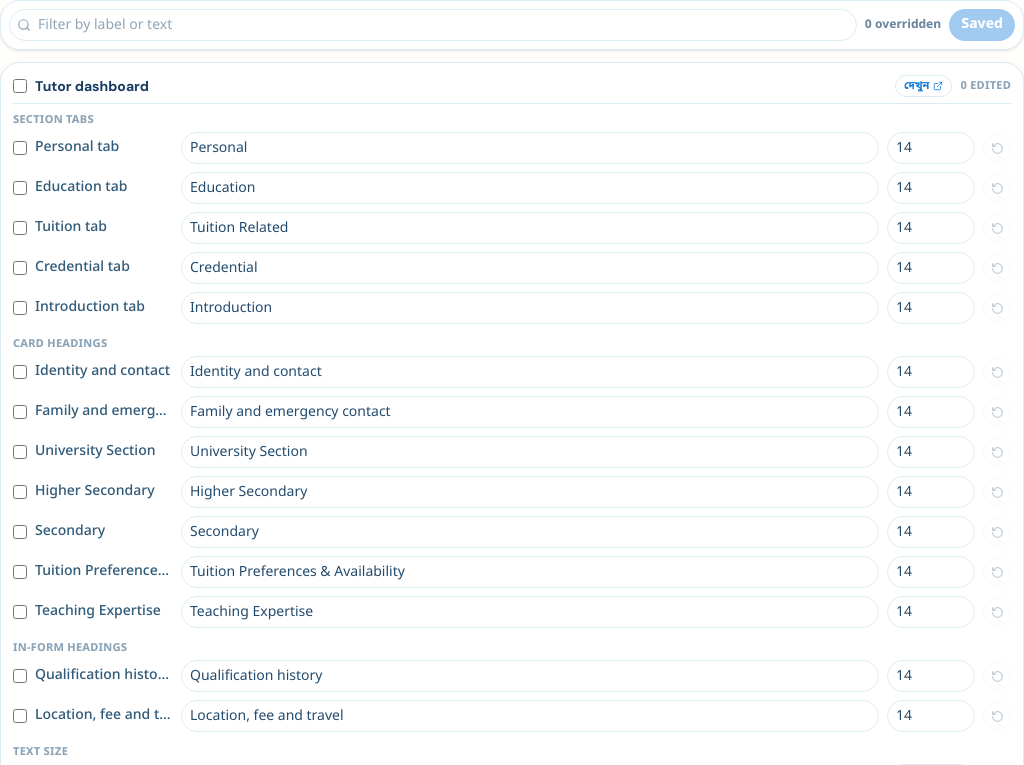
Test: Site content editor › filters rows by label or text so a long page stays navigable
Expected: the field labelled "Personal tab" is shown, left=181, top=132, right=879, bottom=164
In the field with placeholder "Filter by label or text": [433, 25] box left=9, top=9, right=857, bottom=41, type "qualification"
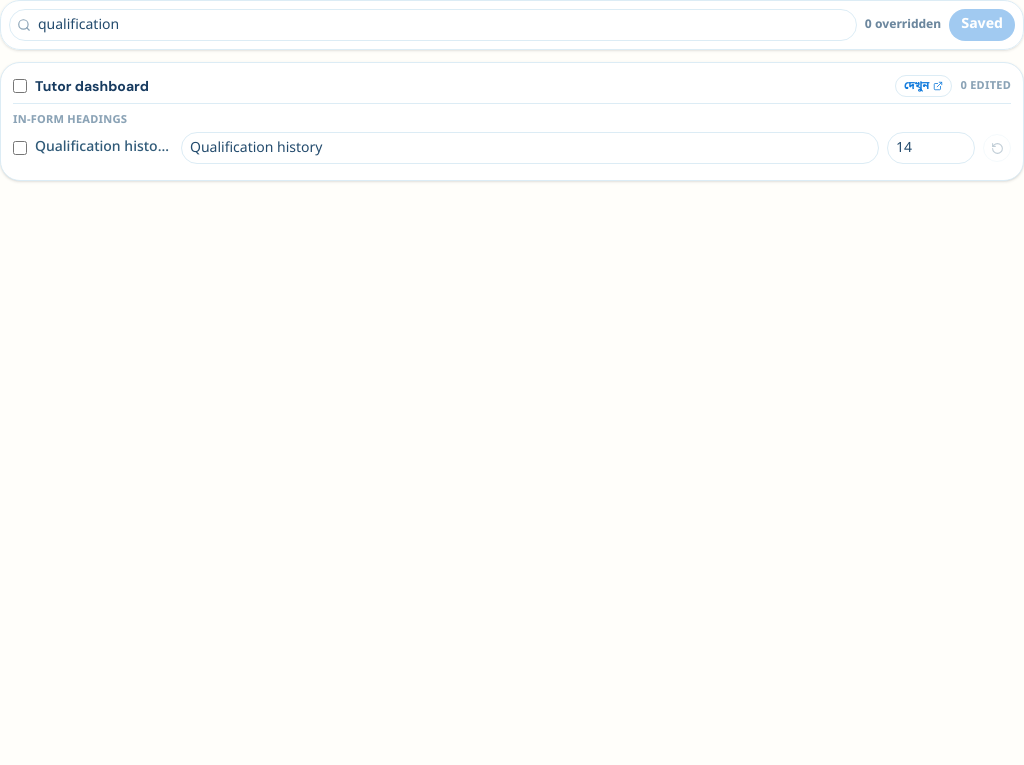
Expected: the number of fields labelled "Qualification history heading" is 1, left=181, top=132, right=879, bottom=164
Expected: the label labelled "Personal tab" is gone
